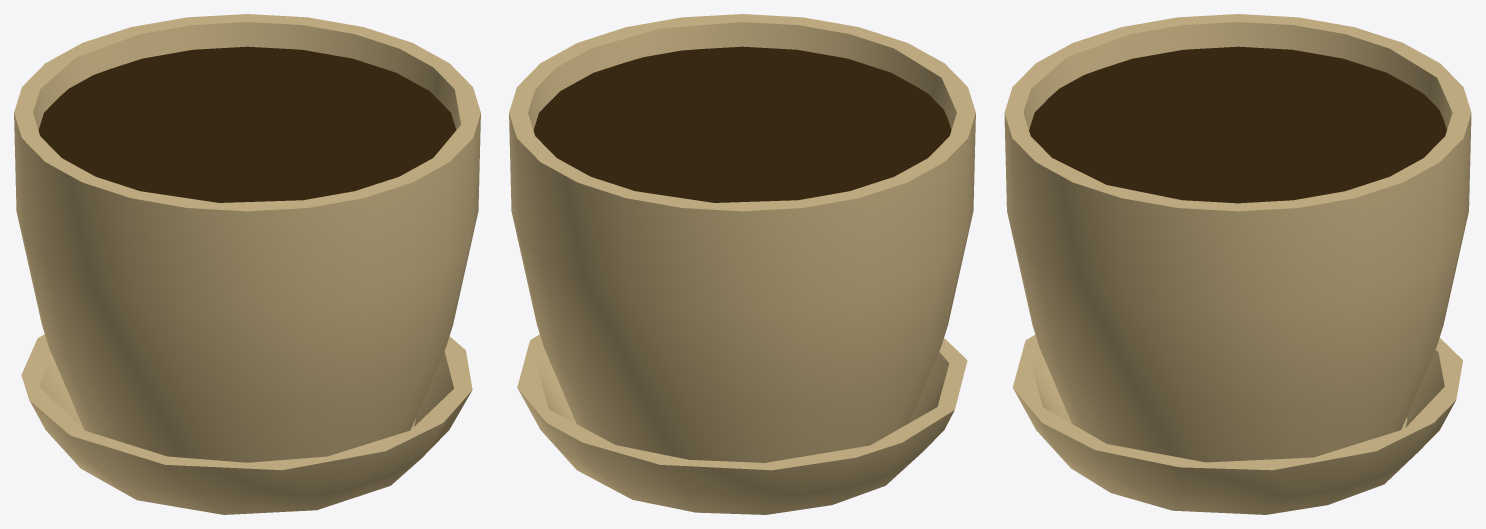
The model's file is Pot.glb.
3 views of the same model, side by side, from view 1: azimuth 30°, elevation 25°; view 2: azimuth 150°, elevation 25°; view 3: azimuth 270°, elevation 25° (orthographic).
Visible parts, largest first — view 1: Pot; view 2: Pot; view 3: Pot.
Part boxes in pixels (left/top/right/bottom): Pot: left=14, top=14, right=480, bottom=514; Pot: left=509, top=14, right=975, bottom=514; Pot: left=1004, top=14, right=1471, bottom=514.
Bounding box in the file's own units: 0.2536 × 0.1957 × 0.2536.
1 material, 1 textured.
